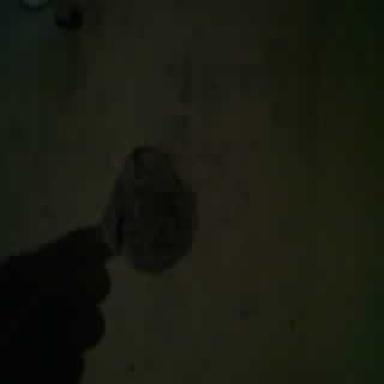paper: (104, 146, 194, 270)
